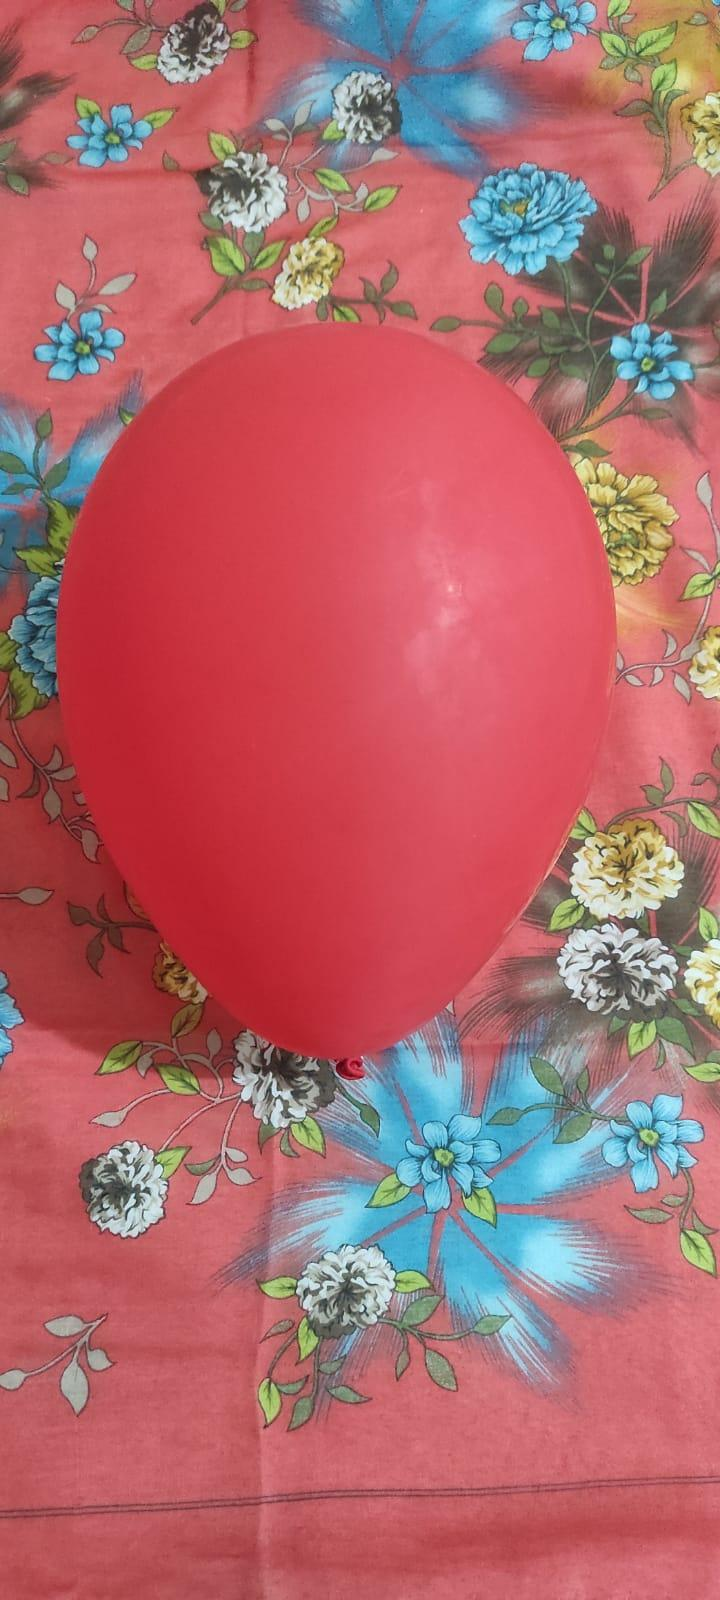red: (51, 304, 622, 1087)
